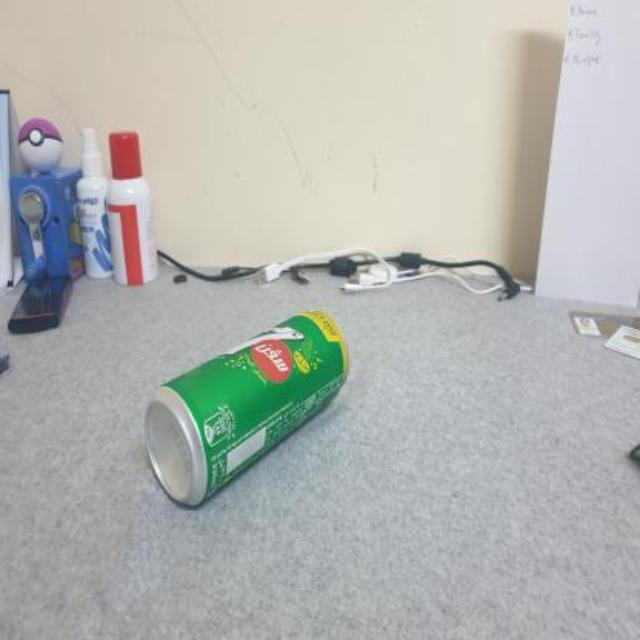metal: (145, 309, 345, 503)
